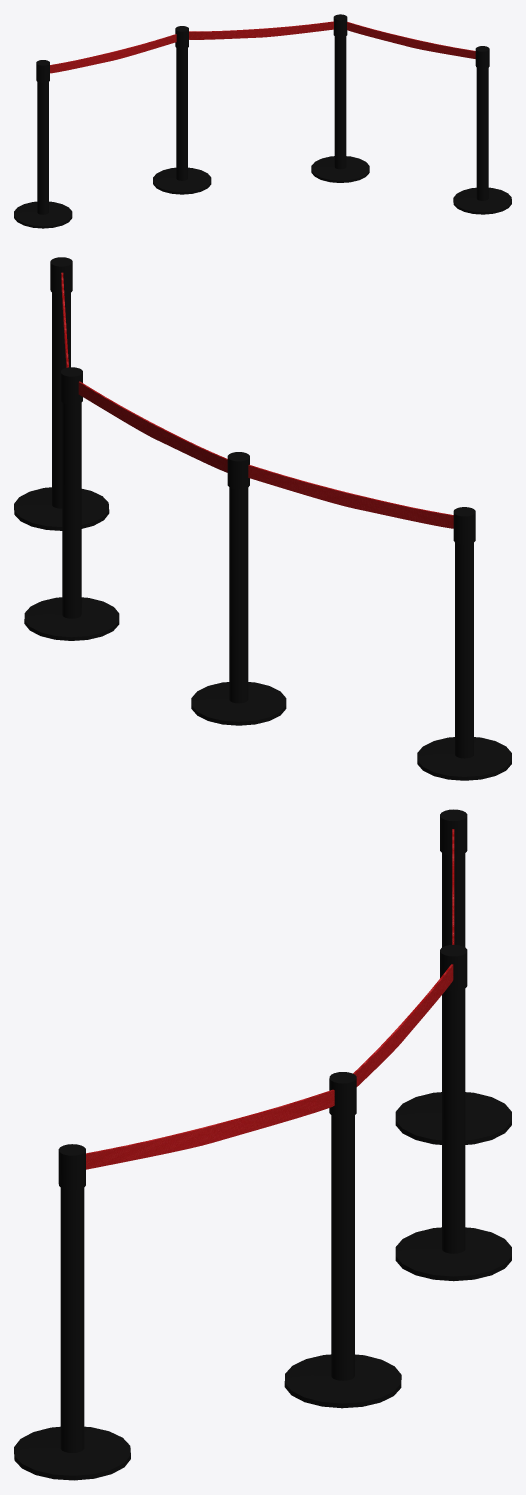
File: Fence.FBX
The picture shows the model from 3 angles, top to bottom: view 1: azimuth 30°, elevation 25°; view 2: azimuth 150°, elevation 25°; view 3: azimuth 270°, elevation 25°; orthographic projection. The views are drawn at different scales.
Visible parts, largest first — view 1: Fence; view 2: Fence; view 3: Fence.
Part boxes in pixels (bbox=[...]): Fence: bbox=[14, 14, 511, 228]; Fence: bbox=[14, 257, 511, 780]; Fence: bbox=[14, 809, 511, 1480].
Size of the model in its own units: 212 by 78.62 by 116.
Materials: 1 (1 with a texture image).
